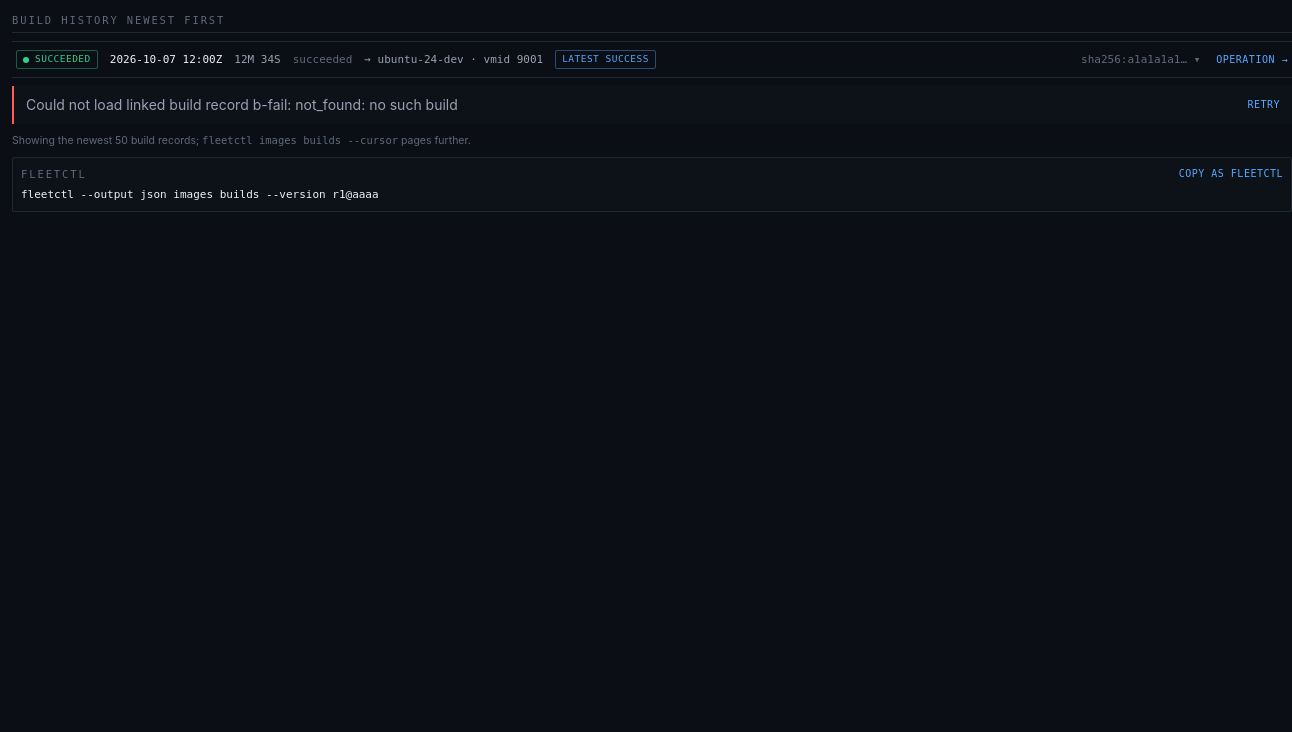
Test: build history › shows a linked record's lookup failure and retries it
Expected: the message with test id "linked-error" shows "not_found: no such build", [26, 96, 458, 113]
Click the button "Retry" at x=1264, y=105, box [1247, 97, 1280, 113]
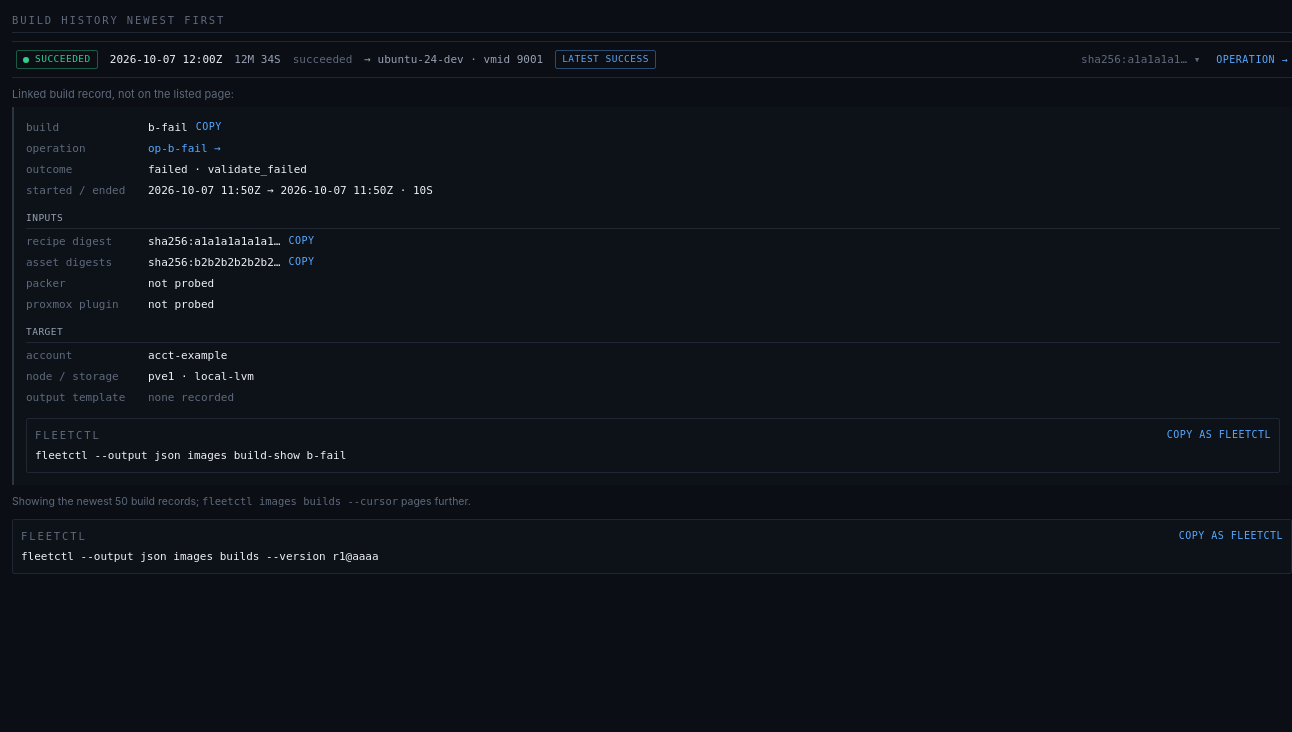
Result: the element with test id "build-record" shows "validate_failed" at [208, 163, 307, 176]
